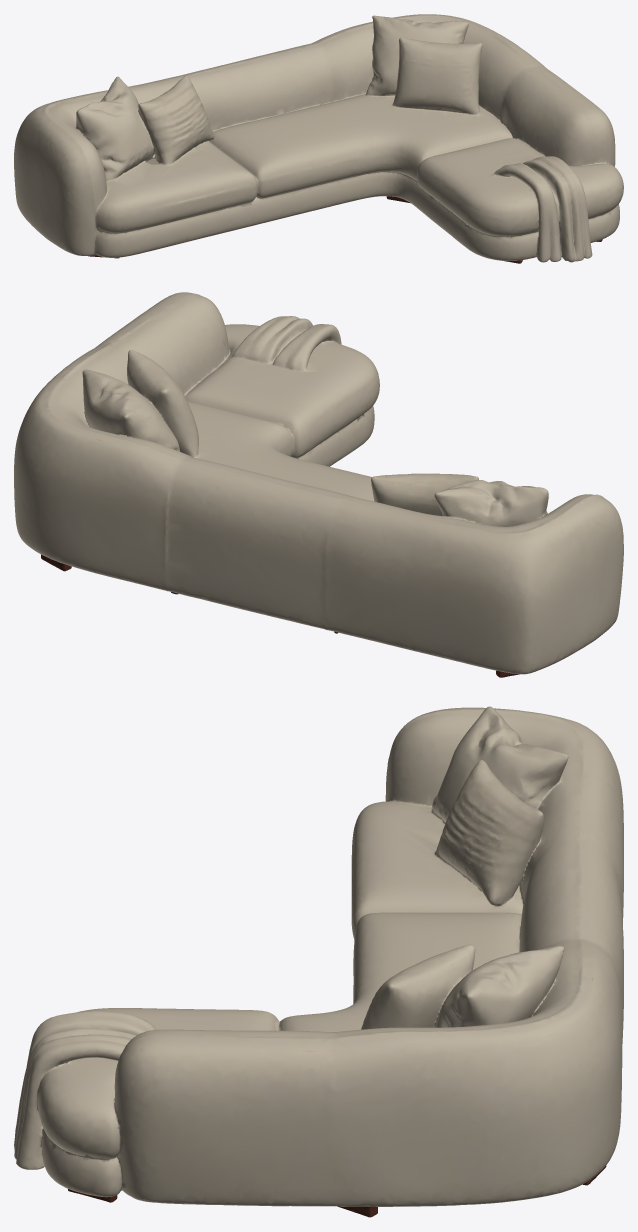
File: item-1.glb
The picture shows the model from 3 angles, top to bottom: view 1: azimuth 30°, elevation 25°; view 2: azimuth 150°, elevation 25°; view 3: azimuth 270°, elevation 25°; orthographic projection. The views are drawn at different scales.
Visible parts, largest first — view 1: geometry_0; view 2: geometry_0; view 3: geometry_0.
Boxes of the visible parts, x1,y1,x2,y2 form: geometry_0: [14, 14, 623, 263]; geometry_0: [14, 292, 623, 677]; geometry_0: [14, 706, 623, 1217].
Bounding box in the file's own units: 1 × 0.2619 × 0.7353.
1 material, 1 textured.
